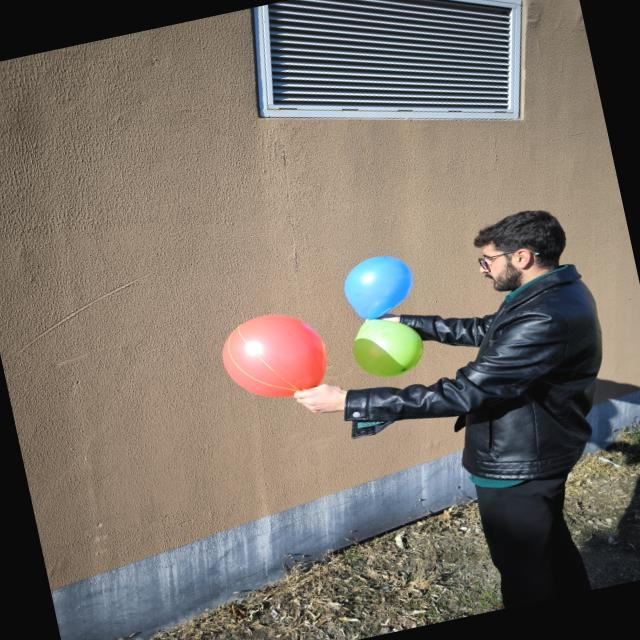balloon: (222, 314, 326, 397), (343, 256, 413, 319), (352, 319, 423, 376)
